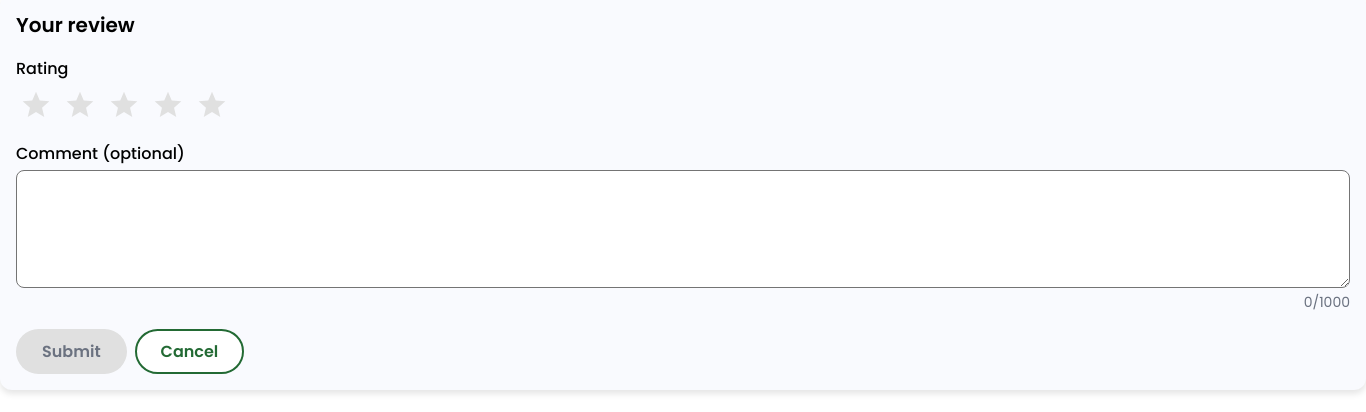
Test case: ReviewForm › selects a rating and enables Submit
Click the radio button named "4 de 5 estrellas". click: coordinates (168, 105)
box: [148,85,188,125]
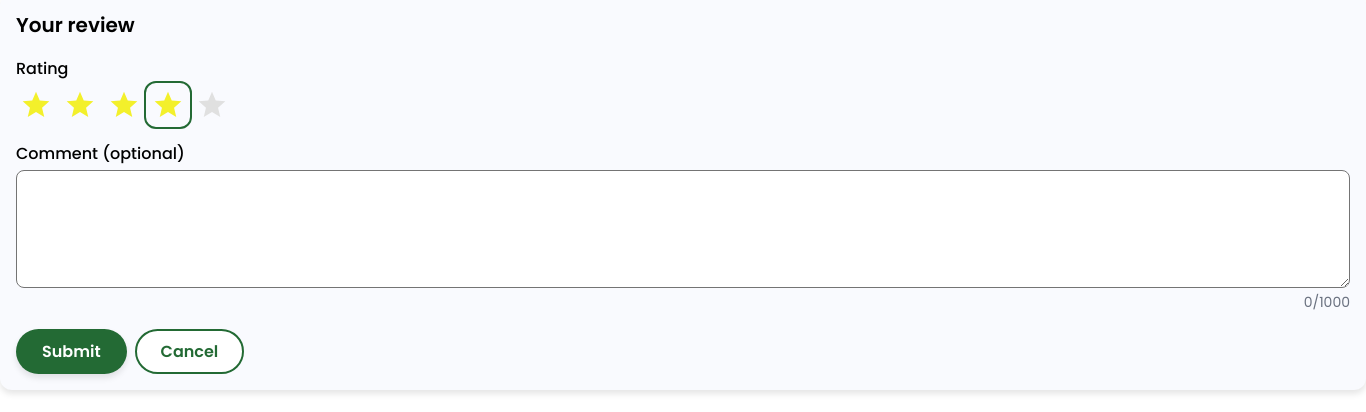
Expected: the button "Submit" is enabled, [16,329,127,374]
